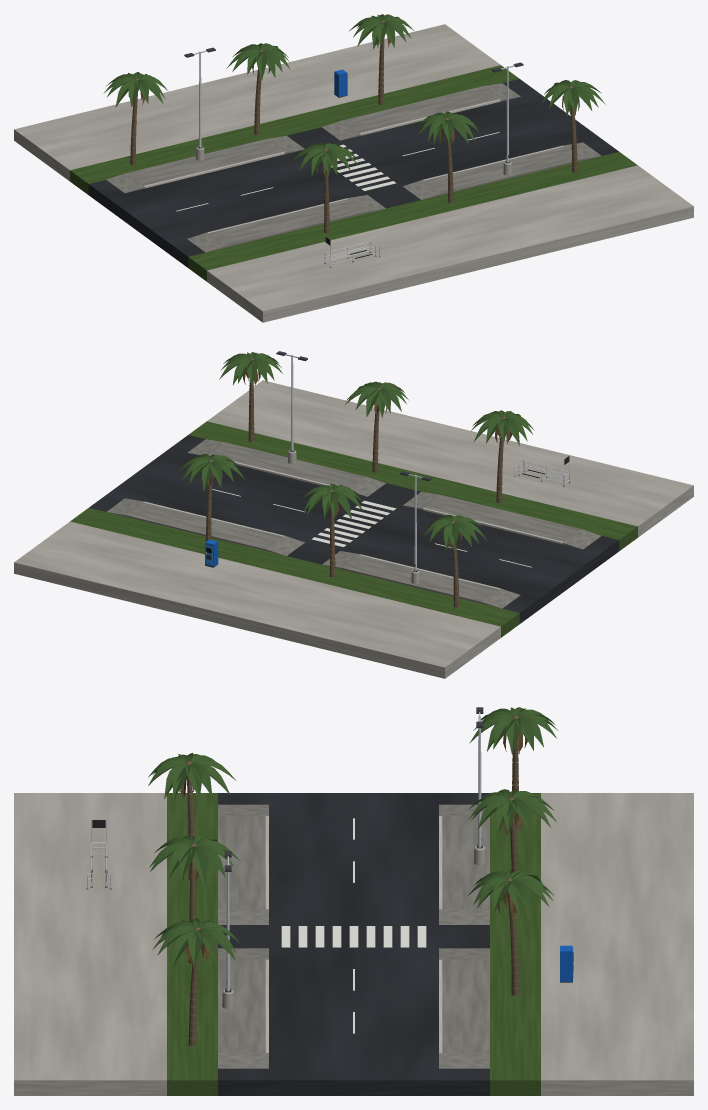
Rendered from street.glb.
3 views of the same model, one above another, from view 1: azimuth 30°, elevation 25°; view 2: azimuth 150°, elevation 25°; view 3: azimuth 270°, elevation 25° (orthographic). The views are drawn at different scales.
Visible parts, largest first — view 1: PlazaSouth, Road, PlazaNorth, ParkwaySouth, ParkwayNorth, WalkWest2, WalkEast, WalkEast2, WalkWest, Fronds2, Fronds3, Fronds (+4 smaller); view 2: PlazaNorth, Road, PlazaSouth, ParkwayNorth, ParkwaySouth, WalkEast, WalkWest, WalkWest2, WalkEast2, Fronds5, Fronds4, Fronds2 (+3 smaller); view 3: Road, PlazaSouth, PlazaNorth, ParkwayNorth, ParkwaySouth, WalkEast, WalkEast2, WalkWest2, WalkWest, Fronds5, Fronds6, Fronds (+11 smaller).
Part boxes in pixels (x1=…): PlazaSouth: x1=207, y1=165, x2=693, y2=322; Road: x1=88, y1=79, x2=618, y2=267; PlazaNorth: x1=14, y1=24, x2=500, y2=181; ParkwaySouth: x1=188, y1=151, x2=637, y2=281; ParkwayNorth: x1=70, y1=65, x2=519, y2=194; WalkWest2: x1=209, y1=199, x2=365, y2=247; WalkEast: x1=342, y1=86, x2=498, y2=133; WalkEast2: x1=424, y1=146, x2=581, y2=194; WalkWest: x1=126, y1=139, x2=283, y2=185; Fronds2: x1=226, y1=43, x2=290, y2=79; Fronds3: x1=349, y1=14, x2=413, y2=49; Fronds: x1=103, y1=72, x2=167, y2=107; PlazaNorth: x1=14, y1=521, x2=500, y2=678; Road: x1=89, y1=435, x2=619, y2=623; PlazaSouth: x1=207, y1=380, x2=693, y2=537; ParkwayNorth: x1=70, y1=508, x2=519, y2=637; ParkwaySouth: x1=188, y1=421, x2=637, y2=550; WalkEast: x1=126, y1=502, x2=283, y2=550; WalkWest: x1=342, y1=555, x2=498, y2=603; WalkWest2: x1=424, y1=495, x2=581, y2=541; WalkEast2: x1=209, y1=442, x2=365, y2=487; Fronds5: x1=345, y1=381, x2=408, y2=417; Fronds4: x1=471, y1=410, x2=534, y2=445; Fronds2: x1=300, y1=483, x2=362, y2=519; Road: x1=218, y1=793, x2=489, y2=1095; PlazaSouth: x1=14, y1=793, x2=166, y2=1095; PlazaNorth: x1=541, y1=793, x2=693, y2=1095; ParkwayNorth: x1=490, y1=793, x2=540, y2=1095; ParkwaySouth: x1=167, y1=793, x2=217, y2=1095; WalkEast: x1=442, y1=959, x2=489, y2=1052; WalkEast2: x1=218, y1=959, x2=265, y2=1052; WalkWest2: x1=218, y1=816, x2=265, y2=909; WalkWest: x1=442, y1=816, x2=489, y2=909; Fronds5: x1=149, y1=835, x2=240, y2=887; Fronds6: x1=152, y1=918, x2=240, y2=968; Fronds: x1=469, y1=707, x2=558, y2=754.
Size of the model in its own units: 40 by 10.67 by 40.
18 materials, 5 textured.
